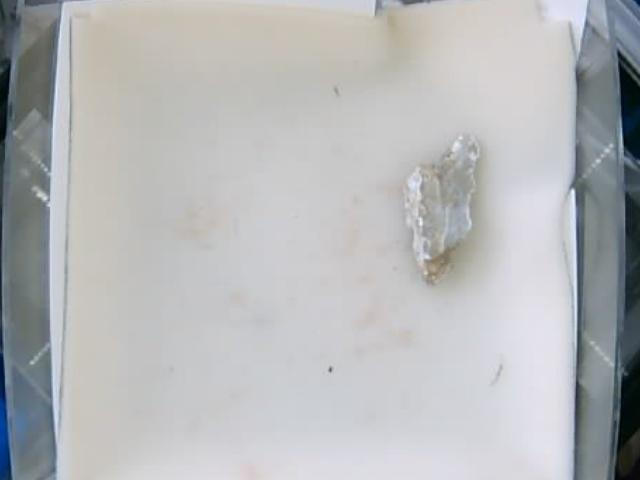Brisk: (407, 135, 480, 286)
